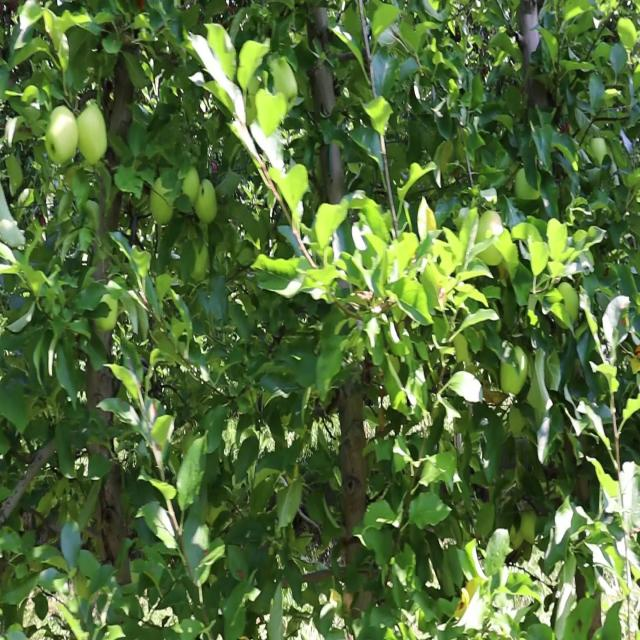apple: (78, 102, 108, 165), (45, 107, 77, 164), (476, 212, 504, 266), (500, 344, 528, 395), (268, 64, 296, 106), (150, 176, 174, 224), (196, 178, 218, 224), (555, 282, 578, 326), (93, 294, 117, 332), (515, 168, 540, 204), (180, 166, 199, 203), (192, 244, 208, 280)
